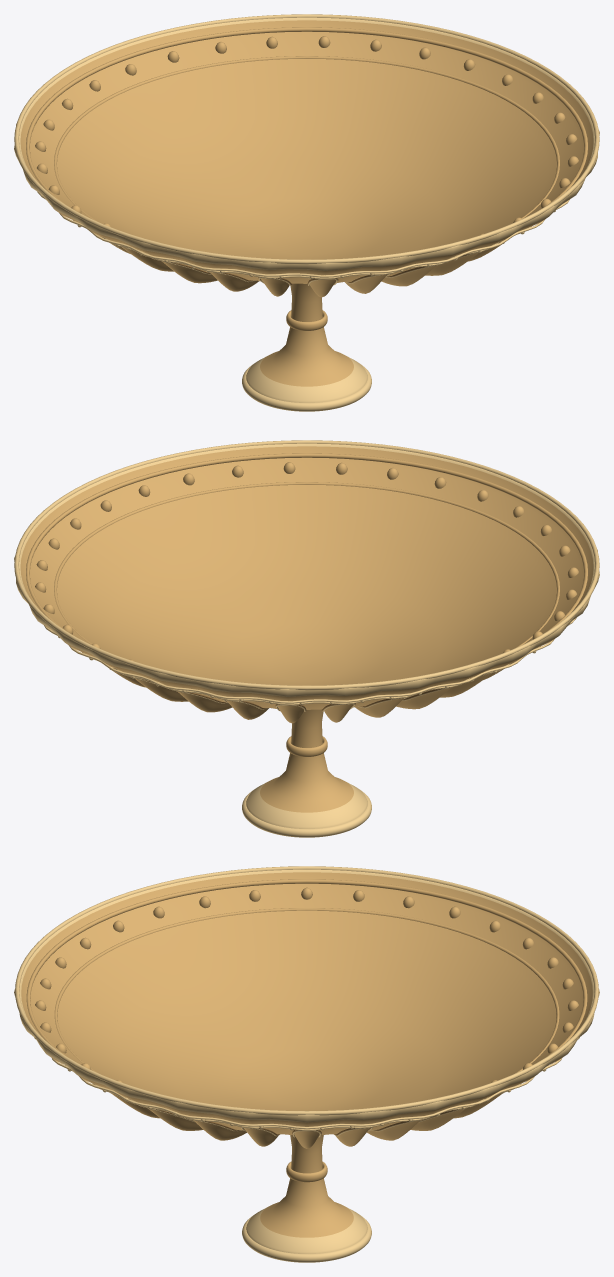
File: bowl-v5.glb
3 renders of one model, top to bottom at view 1: azimuth 30°, elevation 25°; view 2: azimuth 150°, elevation 25°; view 3: azimuth 270°, elevation 25°, orthographic.
Visible parts, largest first — view 1: MIDIS_Patera_V5_Repousse_Gold; view 2: MIDIS_Patera_V5_Repousse_Gold; view 3: MIDIS_Patera_V5_Repousse_Gold.
Boxes of the visible parts, x1=… form: MIDIS_Patera_V5_Repousse_Gold: x1=14, y1=14, x2=599, y2=411; MIDIS_Patera_V5_Repousse_Gold: x1=14, y1=440, x2=599, y2=837; MIDIS_Patera_V5_Repousse_Gold: x1=14, y1=866, x2=599, y2=1262.
Size of the model in its own units: 1.78 by 0.831 by 1.78.
